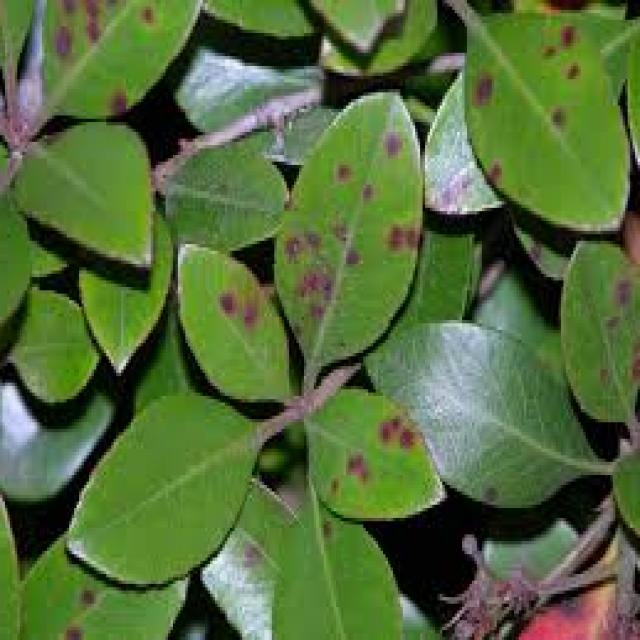black-spot: (245, 131, 422, 331)
